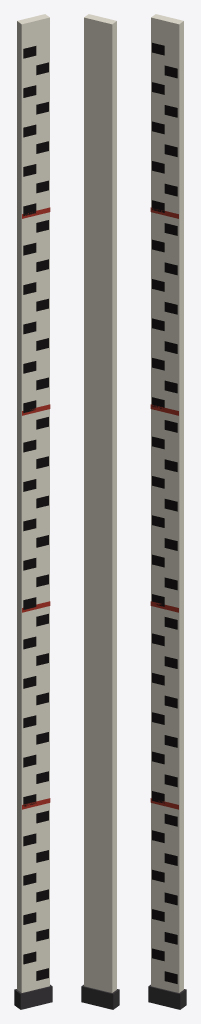
File: measuring_staff.glb
3 renders of one model, left to right at view 1: azimuth 30°, elevation 25°; view 2: azimuth 150°, elevation 25°; view 3: azimuth 330°, elevation 25°, orthographic.
Visible parts, largest first — view 1: measuring_staff; view 2: measuring_staff; view 3: measuring_staff.
Part boxes in pixels (left/top/right/bottom): measuring_staff: left=14, top=14, right=52, bottom=1009; measuring_staff: left=81, top=14, right=119, bottom=1009; measuring_staff: left=148, top=14, right=186, bottom=1009.
Size of the model in its own units: 0.085 by 2.5 by 0.03.
